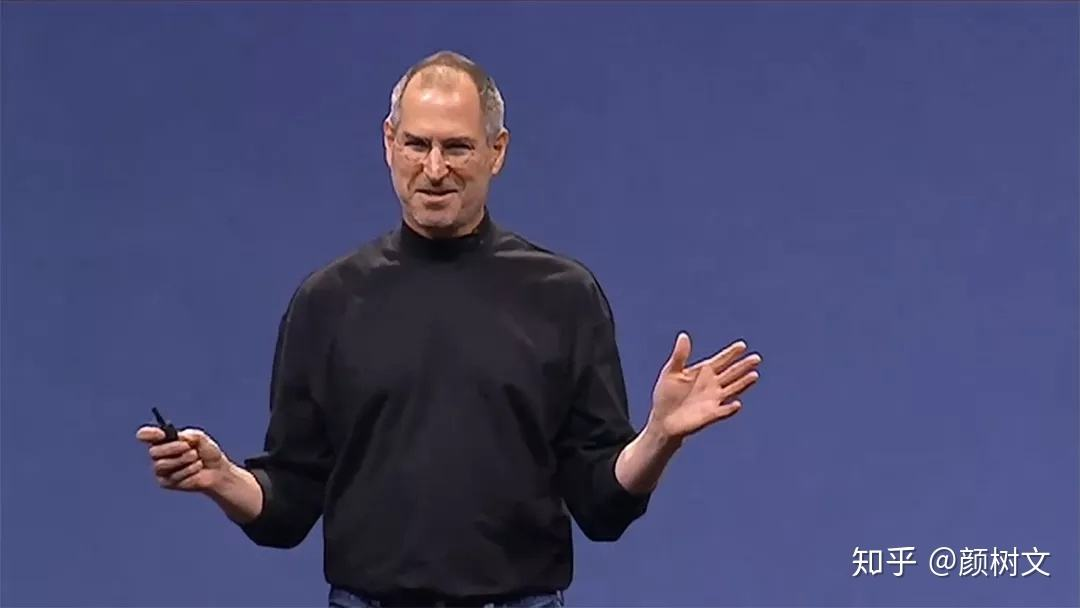no-phone: (650, 329, 764, 437)
